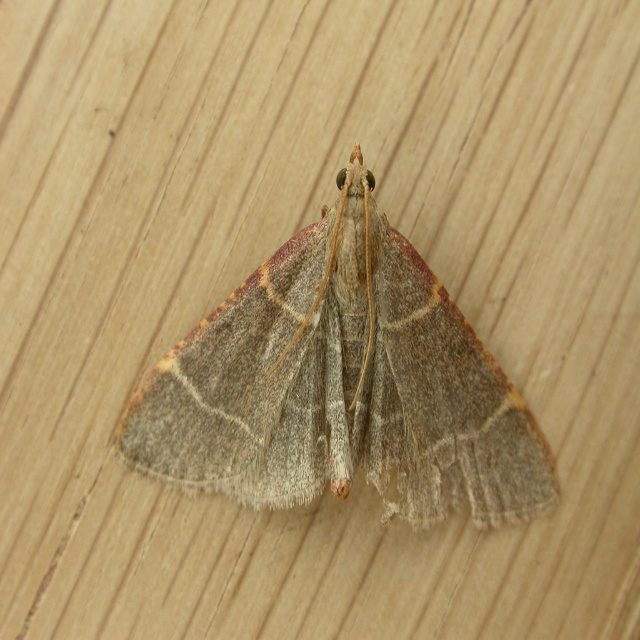Moths and butterflies: (105, 135, 563, 541)
